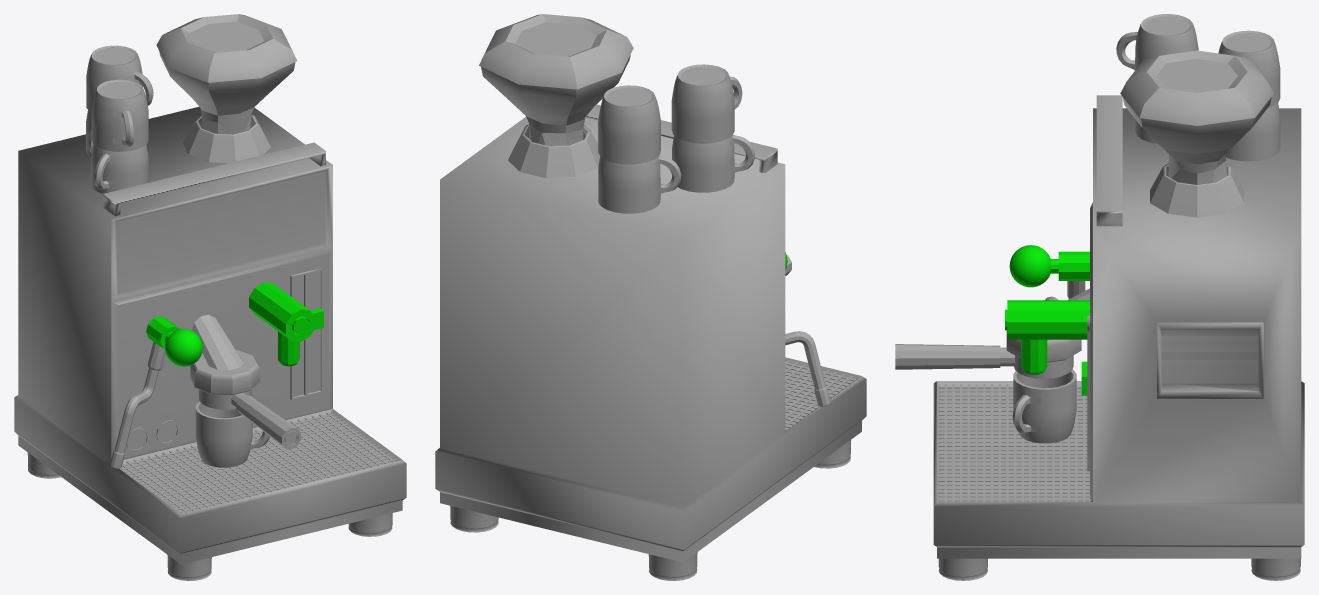
Rendered from coffeeMachine.fbx.
3 renders of one model, left to right at view 1: azimuth 30°, elevation 25°; view 2: azimuth 150°, elevation 25°; view 3: azimuth 270°, elevation 25°, orthographic. The views are drawn at different scales.
Parts seen in each view (by area): view 1: coffeeMachine_exterior, coffeeMachine_button, coffeeMachine_knob; view 2: coffeeMachine_exterior; view 3: coffeeMachine_exterior, coffeeMachine_button, coffeeMachine_knob.
Boxes of the visible parts, box(x1,y1,x2,y2) form: coffeeMachine_exterior: box(14, 14, 406, 580); coffeeMachine_button: box(249, 282, 315, 366); coffeeMachine_knob: box(146, 316, 202, 366); coffeeMachine_exterior: box(435, 14, 866, 580); coffeeMachine_exterior: box(895, 14, 1304, 580); coffeeMachine_button: box(1005, 300, 1089, 374); coffeeMachine_knob: box(1009, 245, 1089, 287).
Size of the model in its own units: 6.08 by 10.14 by 7.86.
